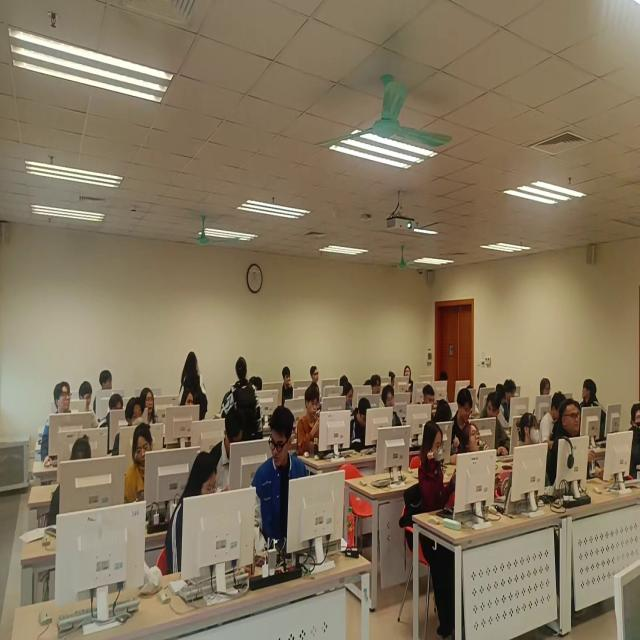raise_head: (549, 399, 590, 487), (42, 382, 72, 465), (112, 397, 143, 458), (516, 411, 542, 454), (627, 401, 640, 484), (382, 385, 404, 429), (462, 422, 490, 454), (280, 366, 297, 407), (140, 388, 156, 424), (181, 389, 195, 409), (372, 374, 382, 398), (310, 364, 321, 384), (404, 366, 413, 382)
stand: (220, 356, 264, 441), (179, 351, 209, 424)
using_computer: (165, 451, 218, 581), (48, 436, 93, 529), (419, 421, 455, 513), (209, 410, 245, 494), (125, 424, 155, 505), (480, 391, 512, 457), (453, 390, 475, 455), (541, 392, 568, 443), (351, 398, 373, 450), (99, 395, 126, 429), (504, 380, 521, 422), (421, 384, 437, 422), (495, 383, 508, 426), (78, 382, 95, 414), (342, 383, 356, 414), (437, 399, 454, 424), (250, 374, 263, 394), (478, 383, 488, 408), (438, 371, 450, 387), (340, 375, 351, 388), (389, 372, 396, 389), (467, 383, 474, 392), (365, 379, 372, 387)
using_phone: (298, 387, 325, 458)
